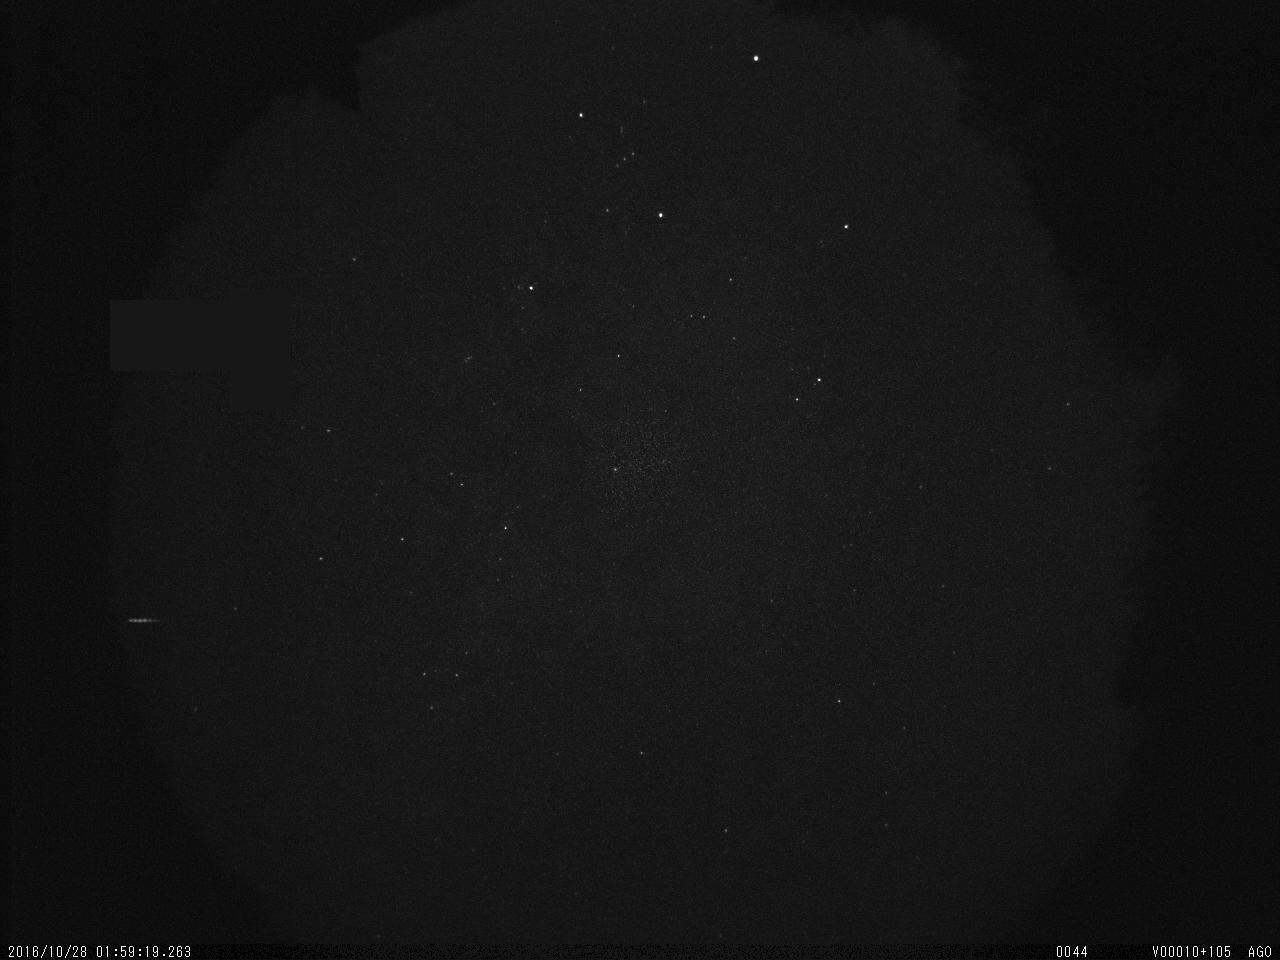meteor: (124, 601, 172, 635)
